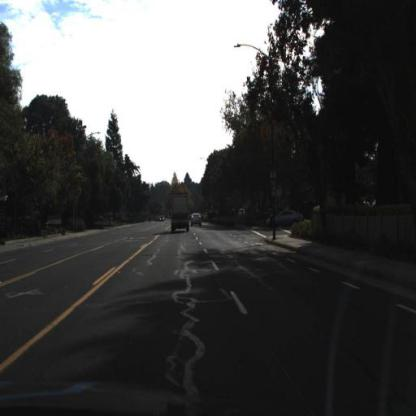car: (267, 209, 304, 230), (190, 212, 204, 230)
pedestrian: (269, 208, 275, 234)
truck: (169, 186, 192, 234)
